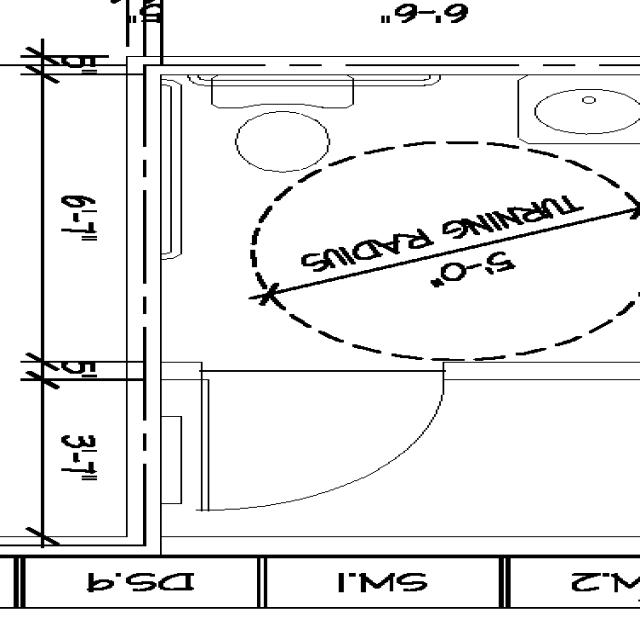Doors: (185, 365, 449, 517)
